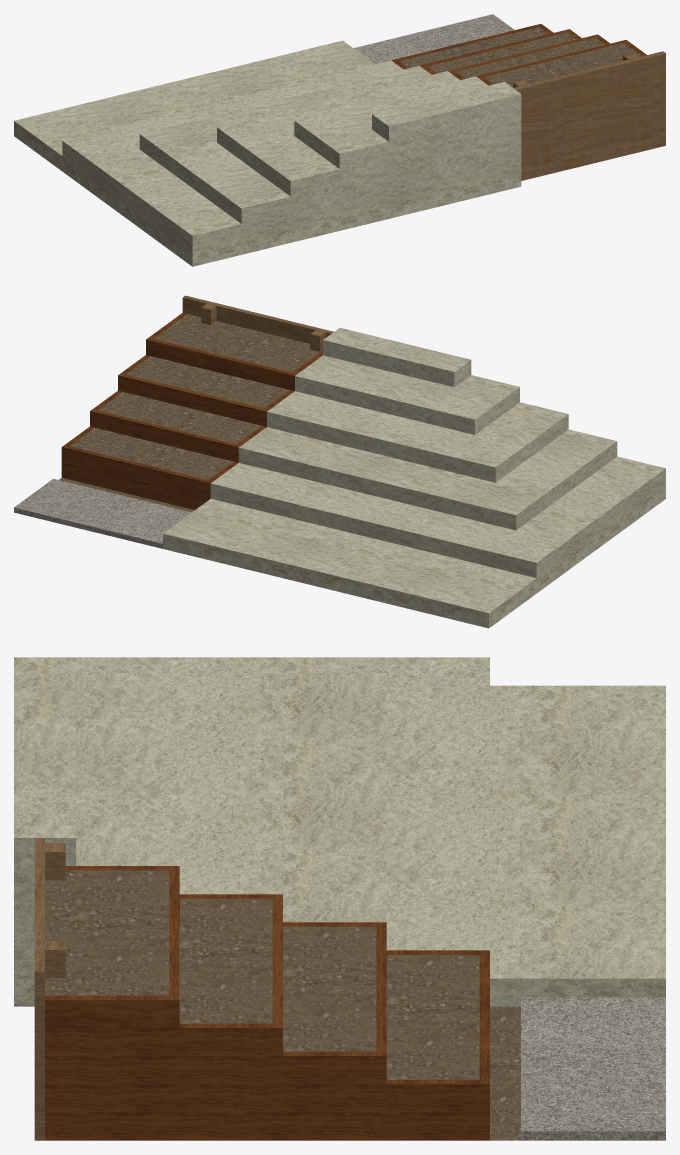
File: terrace_garden.dae
3 views of the same model, one above another, from view 1: azimuth 30°, elevation 25°; view 2: azimuth 150°, elevation 25°; view 3: azimuth 270°, elevation 25° (orthographic). The views are drawn at different scales.
Parts seen in each view (by area): view 1: group_25, group_9, group_20, group_14, group_21, group_12, group_13, group_11, group_15, group_16, group_17, group_19; view 2: group_25, group_20, group_14, group_11, group_12, group_13, group_15, group_19, group_16, group_17, group_9, group_18 (+2 smaller); view 3: group_25, group_20, group_19, group_14, group_18, group_17, group_12, group_11, group_13, group_16, group_21, group_15 (+3 smaller).
Boxes of the visible parts, <box> form: group_25: <box>14,40,521,266</box>; group_9: <box>513,51,665,180</box>; group_20: <box>353,14,514,63</box>; group_14: <box>484,43,641,87</box>; group_21: <box>372,81,520,126</box>; group_12: <box>427,32,576,73</box>; group_13: <box>456,37,605,78</box>; group_11: <box>399,27,548,68</box>; group_15: <box>476,40,646,85</box>; group_16: <box>448,34,609,79</box>; group_17: <box>420,29,581,74</box>; group_19: <box>391,24,553,69</box>; group_25: <box>163,340,665,628</box>; group_20: <box>14,479,191,548</box>; group_14: <box>154,314,322,372</box>; group_11: <box>70,428,233,479</box>; group_12: <box>98,392,261,444</box>; group_13: <box>126,356,289,408</box>; group_15: <box>146,313,322,390</box>; group_19: <box>61,426,238,498</box>; group_16: <box>118,355,294,426</box>; group_17: <box>90,390,266,462</box>; group_9: <box>182,295,333,351</box>; group_18: <box>61,462,210,509</box>; group_25: <box>14,657,665,1006</box>; group_20: <box>521,997,665,1140</box>; group_19: <box>45,950,489,1112</box>; group_14: <box>45,870,169,995</box>; group_18: <box>45,1112,489,1140</box>; group_17: <box>45,922,386,1084</box>; group_12: <box>283,926,376,1051</box>; group_11: <box>386,955,479,1079</box>; group_13: <box>180,898,272,1023</box>; group_16: <box>45,894,282,1055</box>; group_21: <box>14,719,75,837</box>; group_15: <box>45,866,179,1027</box>.
Size of the model in its own units: 192 by 124 by 35.43.
